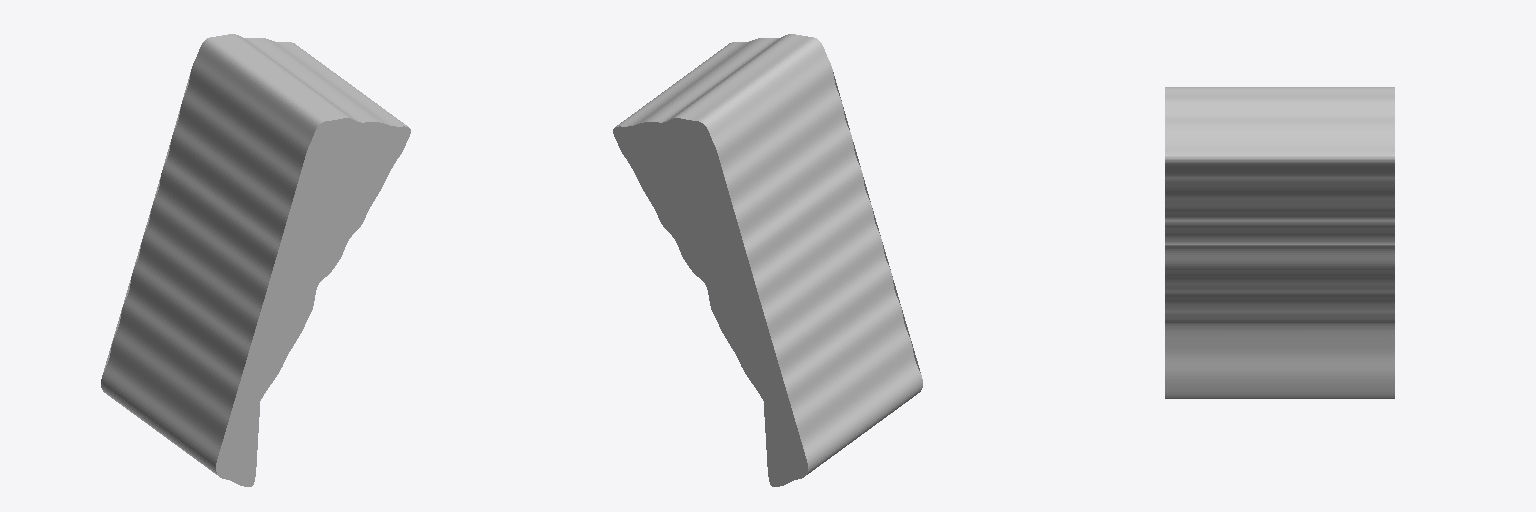
The picture shows the model from 3 angles: view 1: azimuth 30°, elevation 25°; view 2: azimuth 150°, elevation 25°; view 3: azimuth 270°, elevation 25°; orthographic projection.
Visible parts, largest first — view 1: 平面; view 2: 平面; view 3: 平面.
Part boxes in pixels (bbox=[...]): 平面: bbox=[101, 34, 410, 486]; 平面: bbox=[613, 34, 922, 486]; 平面: bbox=[1165, 87, 1394, 398].
Bounding box in the file's own units: 0.196 × 0.3335 × 0.2.